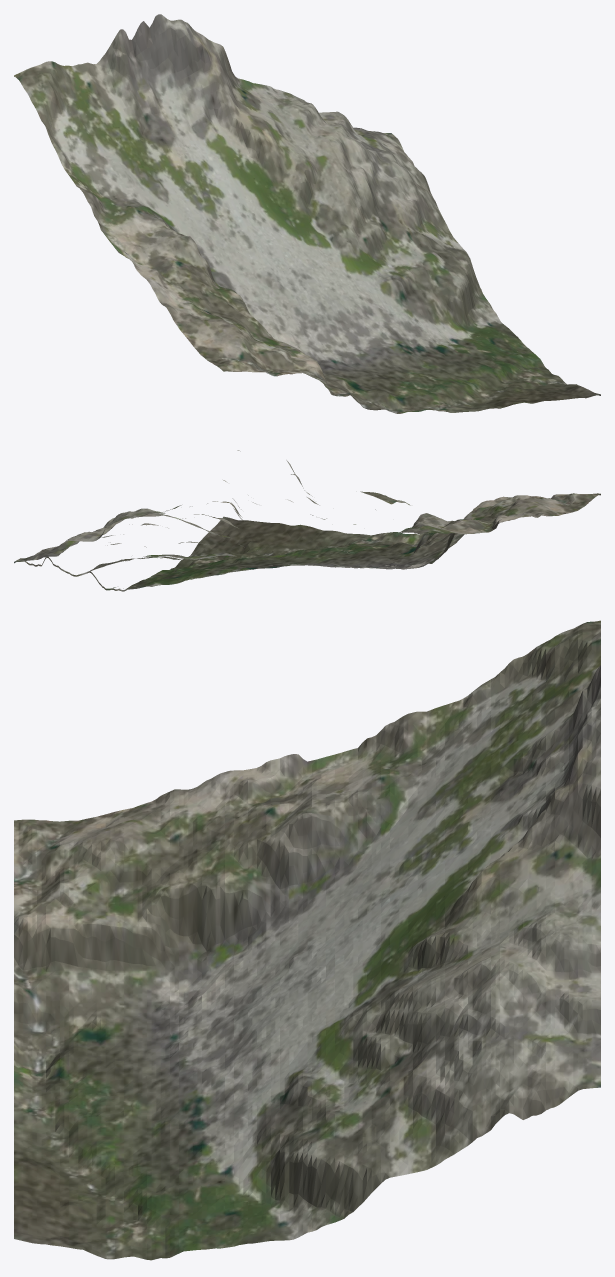
The picture shows the model from 3 angles, top to bottom: view 1: azimuth 30°, elevation 25°; view 2: azimuth 150°, elevation 25°; view 3: azimuth 270°, elevation 25°; orthographic projection. The views are drawn at different scales.
Bounding box in the file's own units: 250 × 190 × 241.
1 material, 1 textured.
